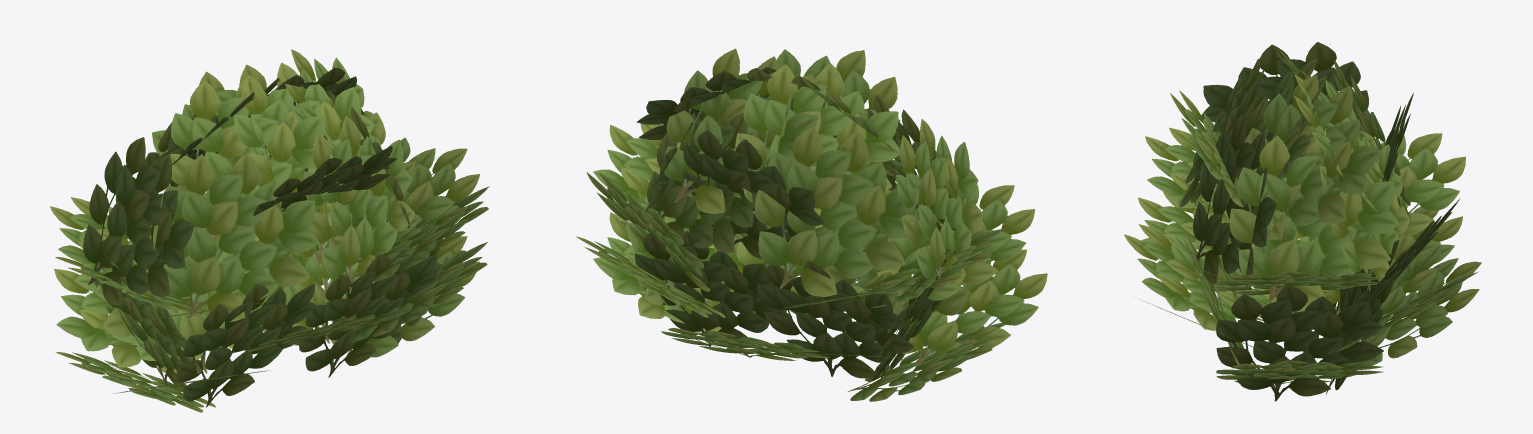
The model's file is dark-bush-006-66.glb.
3 views of the same model, side by side, from view 1: azimuth 30°, elevation 25°; view 2: azimuth 150°, elevation 25°; view 3: azimuth 270°, elevation 25° (orthographic).
Visible parts, largest first — view 1: dark_bush.006_66; view 2: dark_bush.006_66; view 3: dark_bush.006_66.
Boxes of the visible parts, left/top/right/bottom form: dark_bush.006_66: left=50, top=49, right=489, bottom=412; dark_bush.006_66: left=576, top=48, right=1047, bottom=401; dark_bush.006_66: left=1124, top=42, right=1481, bottom=401.
Size of the model in its own units: 19.05 by 13.91 by 15.38.
Materials: 1 (1 with a texture image).
